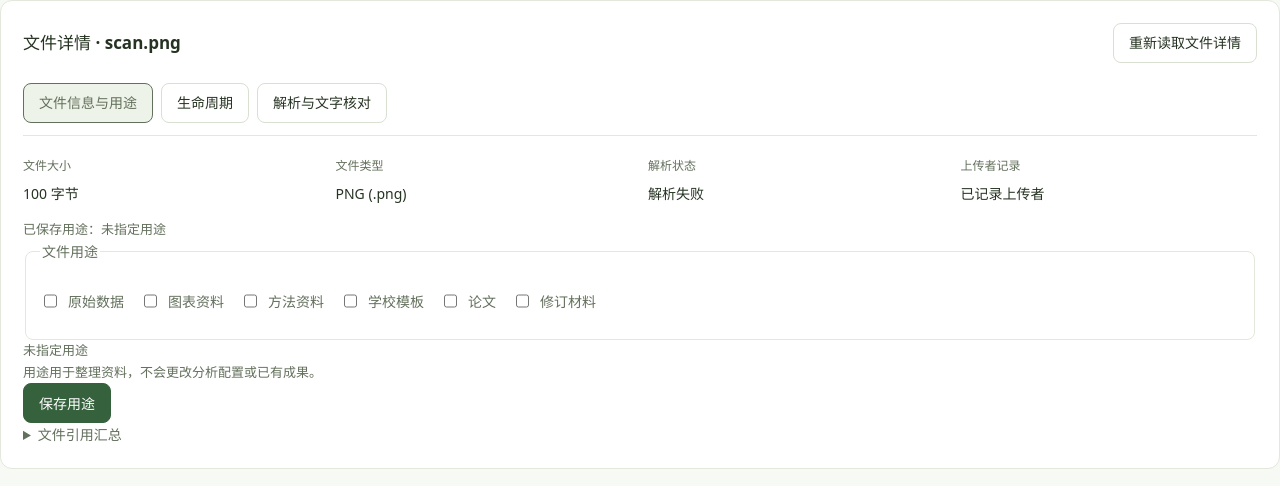
Scenario: image png file details retain OCR history after failure
What coordinates should you click on to do the following:
click the button "解析与文字核对"
I would click on:
 (322, 103)
Its box is [257, 83, 387, 123].
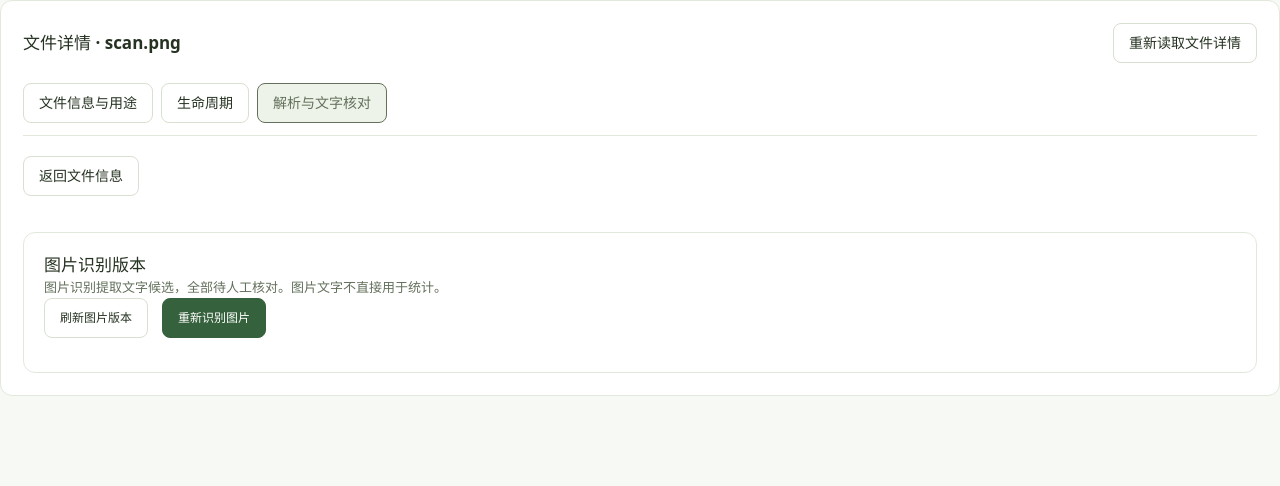
Expected: the heading "图片识别版本" is shown, [44, 253, 146, 276]
